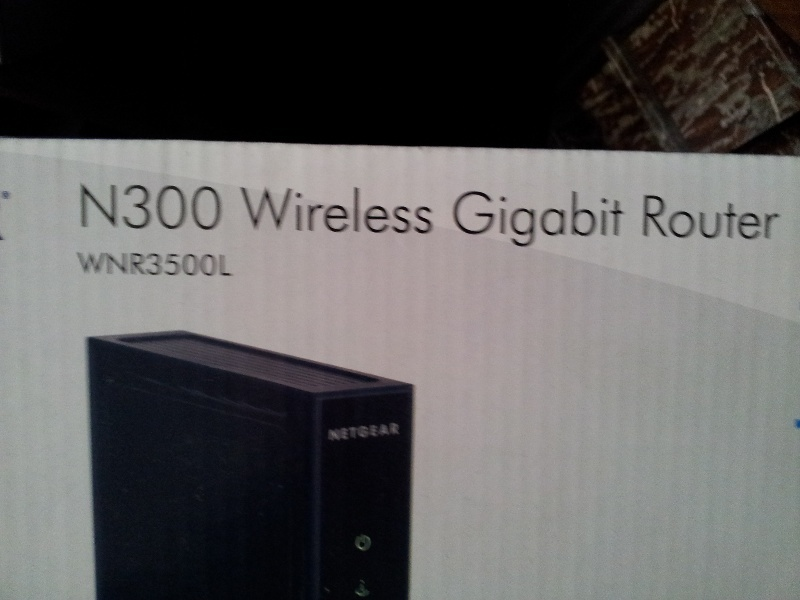text: (609, 189, 625, 249), (465, 189, 480, 249), (481, 189, 496, 249), (497, 189, 512, 249), (513, 189, 528, 249), (529, 189, 544, 249), (545, 189, 560, 249), (561, 189, 576, 249), (577, 189, 592, 249), (593, 189, 608, 249), (81, 182, 96, 232), (97, 182, 112, 232), (113, 182, 128, 232), (129, 182, 144, 232), (145, 182, 160, 232), (161, 182, 176, 232), (177, 182, 192, 232), (193, 182, 208, 232), (241, 187, 256, 236), (257, 187, 272, 236), (273, 187, 288, 236), (289, 187, 304, 236), (305, 187, 320, 236), (321, 187, 336, 236), (337, 187, 352, 236), (353, 187, 368, 236), (369, 187, 384, 236), (385, 187, 400, 236), (401, 187, 416, 236), (417, 187, 432, 236), (657, 195, 672, 242), (673, 195, 688, 242), (689, 195, 704, 242), (705, 195, 720, 242), (721, 195, 736, 242), (737, 195, 752, 242), (753, 195, 768, 242), (453, 189, 464, 249), (209, 182, 222, 232), (643, 195, 656, 242), (769, 195, 782, 242), (81, 251, 96, 277), (97, 251, 112, 277), (113, 251, 128, 277), (129, 251, 144, 277), (145, 251, 160, 277), (161, 251, 176, 277), (177, 251, 192, 277), (193, 251, 208, 277), (209, 251, 224, 277), (337, 422, 352, 441), (353, 422, 368, 441), (369, 422, 384, 441), (385, 422, 400, 441), (225, 251, 234, 277), (327, 422, 336, 441), (433, 187, 435, 236), (77, 251, 80, 277), (79, 182, 80, 232), (401, 422, 403, 441)
